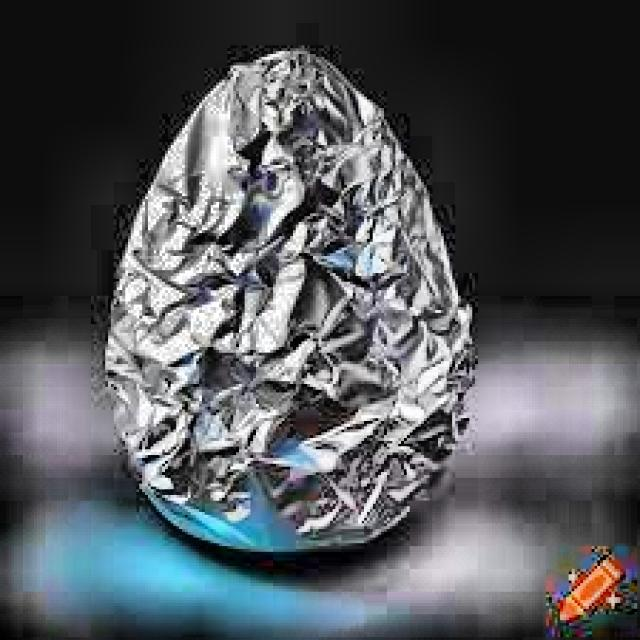Foil: (100, 39, 512, 574)
